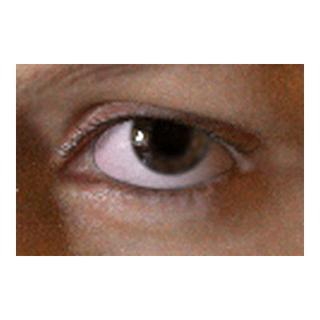pupil: (152, 116, 189, 153)
